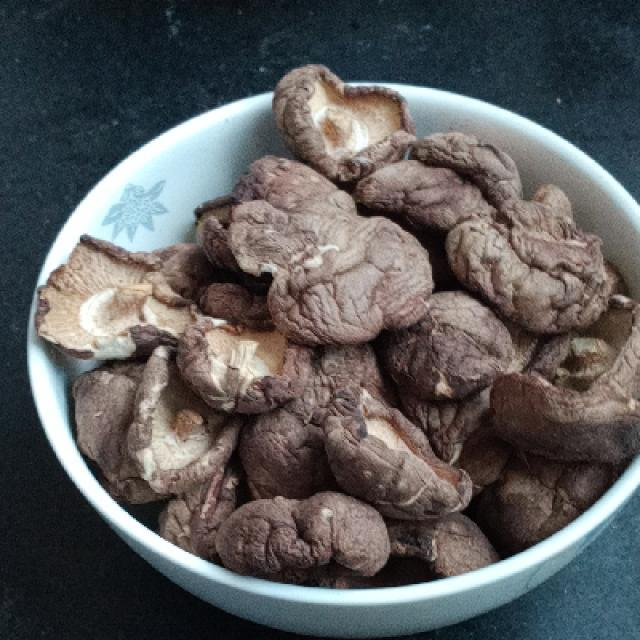Lentinus edodes: (43, 62, 640, 581)
